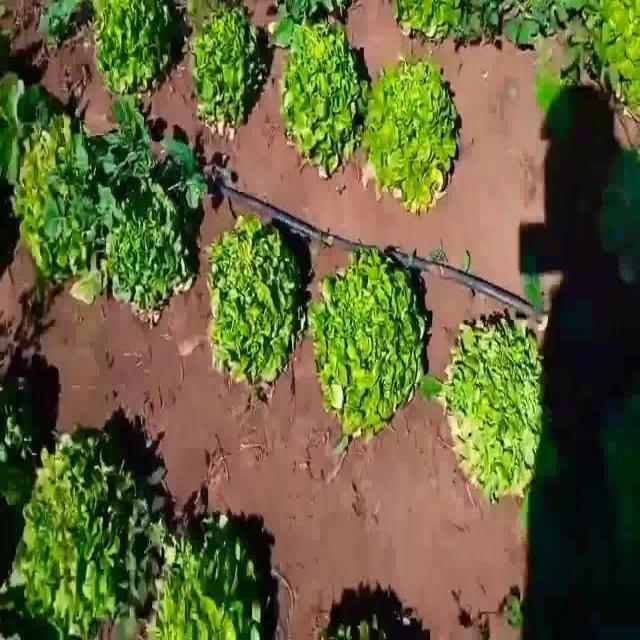Lettuce-Ready-to-Harvest: (8, 439, 154, 632), (313, 248, 430, 433), (448, 319, 559, 494), (207, 216, 306, 381), (146, 517, 272, 640), (17, 120, 107, 282), (362, 67, 464, 200), (283, 28, 370, 168), (107, 198, 198, 309), (79, 0, 189, 88), (191, 17, 265, 126)
